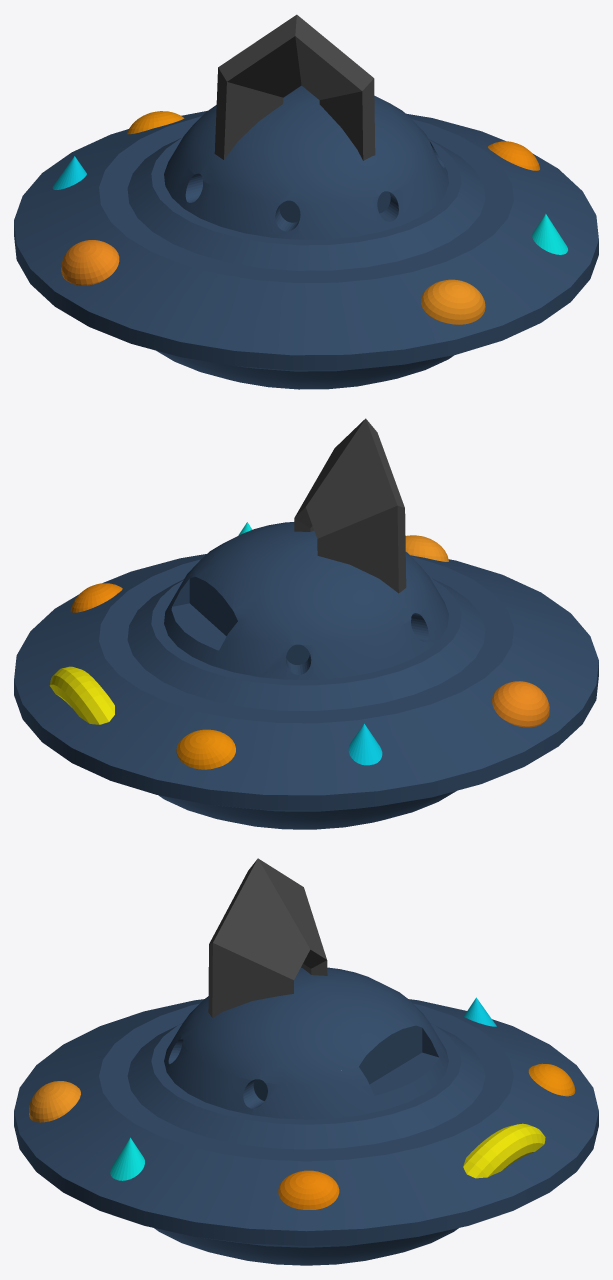
File: spaceship.fbx
3 views of the same model, one above another, from view 1: azimuth 30°, elevation 25°; view 2: azimuth 150°, elevation 25°; view 3: azimuth 270°, elevation 25° (orthographic). The views are drawn at different scales.
Visible parts, largest first — view 1: ufo low poly, Cube.001, Sphere.002, Sphere.001, Sphere.003, Cone.001, Sphere, Cone; view 2: ufo low poly, Cube.001, Torus, Sphere.001, Sphere, Cone, Sphere.003, Sphere.002; view 3: ufo low poly, Cube.001, Torus, Sphere.003, Sphere.002, Sphere, Cone.001.
Boxes of the visible parts, x1=… form: ufo low poly: x1=14, y1=85, x2=598, y2=389; Cube.001: x1=214, y1=14, x2=375, y2=160; Sphere.002: x1=421, y1=279, x2=485, y2=324; Sphere.001: x1=61, y1=240, x2=119, y2=285; Sphere.003: x1=488, y1=141, x2=539, y2=170; Cone.001: x1=532, y1=214, x2=567, y2=254; Sphere: x1=127, y1=111, x2=184, y2=134; Cone: x1=52, y1=156, x2=86, y2=189; ufo low poly: x1=14, y1=522, x2=598, y2=829; Cube.001: x1=294, y1=418, x2=406, y2=593; Torus: x1=49, y1=666, x2=114, y2=724; Sphere.001: x1=492, y1=681, x2=549, y2=727; Sphere: x1=176, y1=729, x2=235, y2=769; Cone: x1=348, y1=723, x2=382, y2=765; Sphere.003: x1=70, y1=583, x2=122, y2=612; Sphere.002: x1=405, y1=535, x2=448, y2=561; ufo low poly: x1=14, y1=967, x2=598, y2=1265; Cube.001: x1=208, y1=858, x2=327, y2=1017; Torus: x1=463, y1=1123, x2=545, y2=1178; Sphere.003: x1=278, y1=1170, x2=339, y2=1209; Sphere.002: x1=29, y1=1081, x2=80, y2=1122; Sphere: x1=528, y1=1063, x2=575, y2=1096; Cone.001: x1=110, y1=1137, x2=144, y2=1180.
Bounding box in the file's own units: 788 × 509 × 812.
